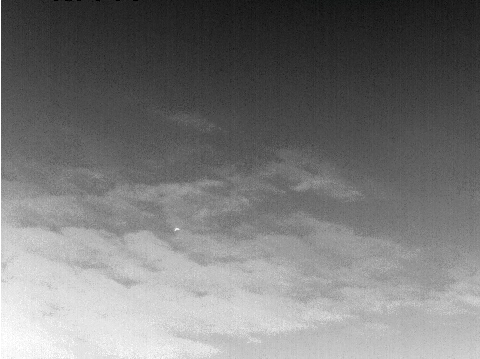dim target: (173, 227, 181, 232)
